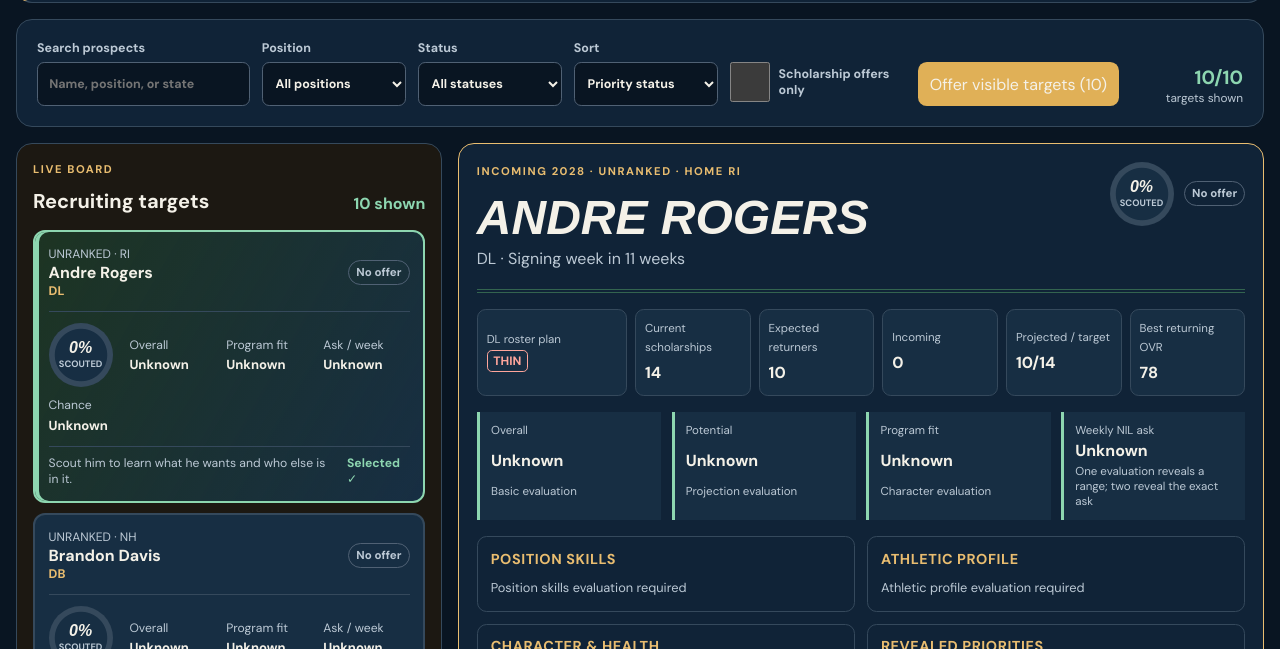
Scenario: Recruiting War Room › moves the detail panel to a visible prospect when filters hide the selection
(page scrolled)
Click the 6th button: x=229, y=366 [33,230,425,503]
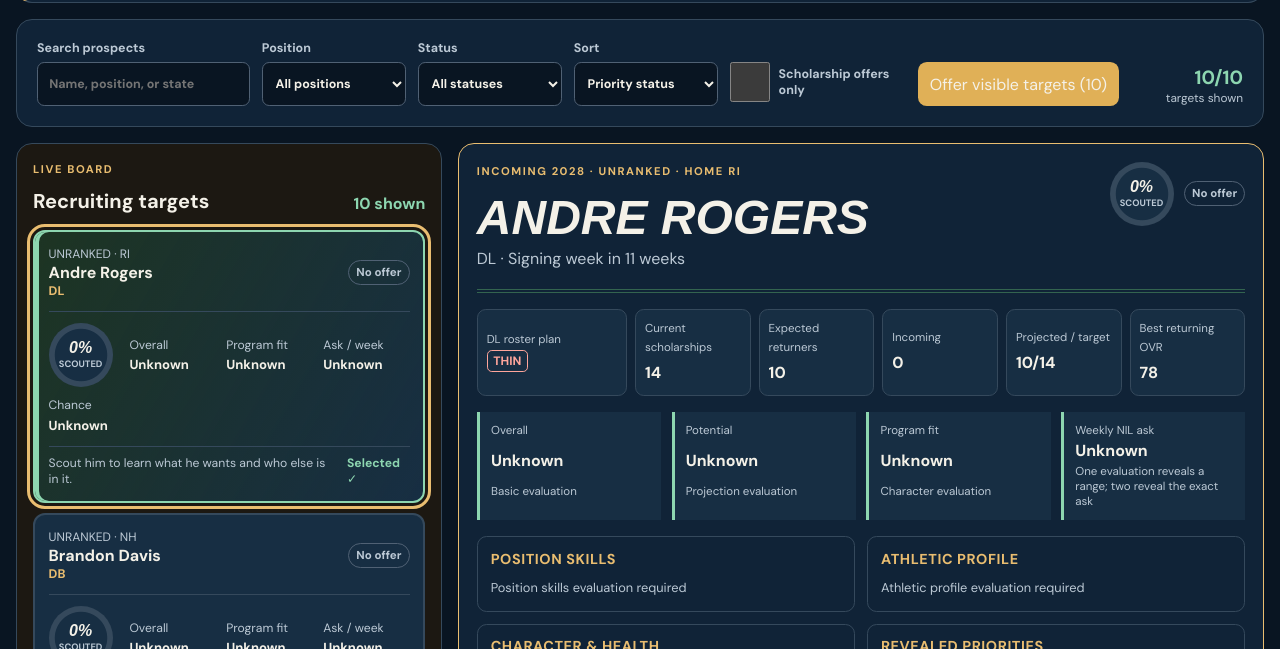
Select "QB" in the dropdown labelled "Position": x=334, y=84 [262,62,406,106]
(page scrolled)
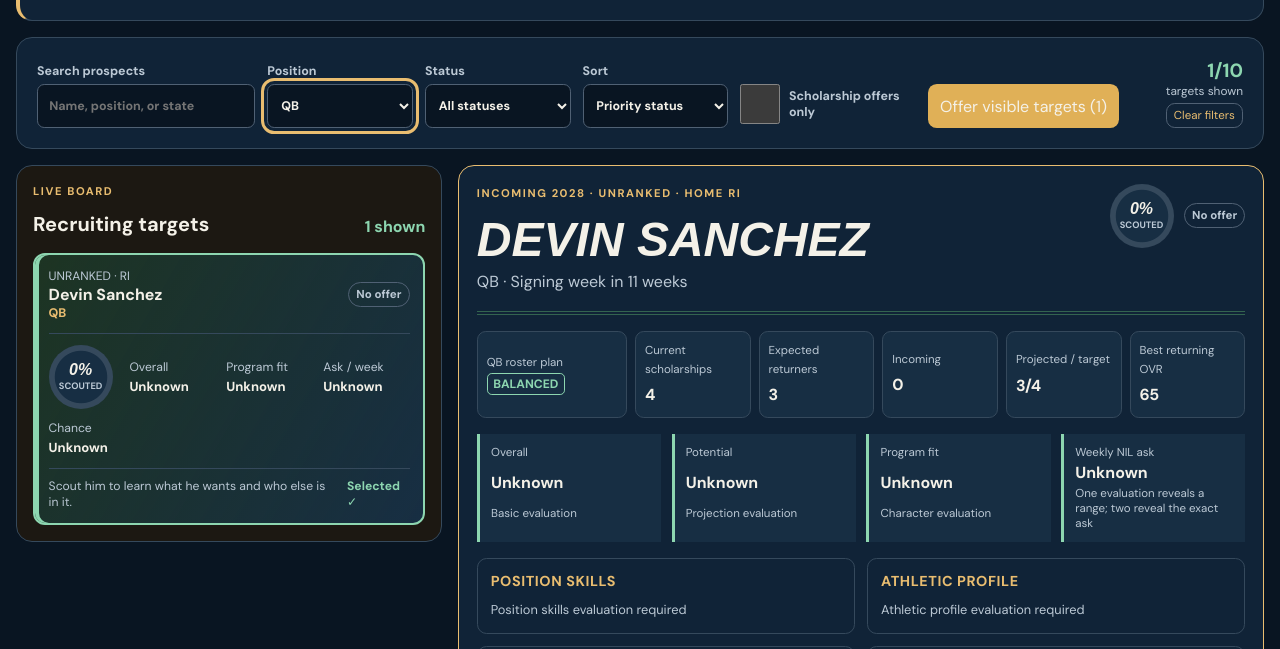
Now the button that starts with "UNRANKED" is pressed, box [33,252,425,525]
